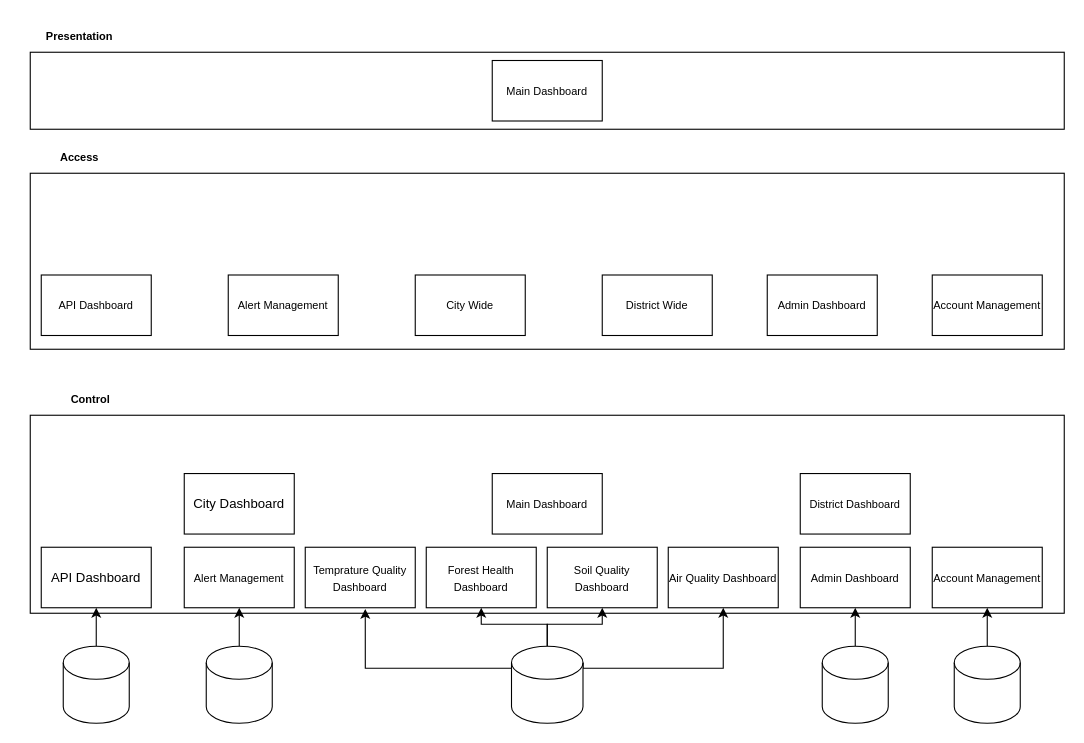
This 1084x743 diagram has some shape labels left out. The shapes that lost their labels are listed below. From the top down, each one's centre as x and y in pixels, then its label:
the point at 95,684: API db
the point at 238,684: Alert DB
the point at 546,684: Sensor db
the point at 854,684: Admin db
the point at 986,684: Account db
